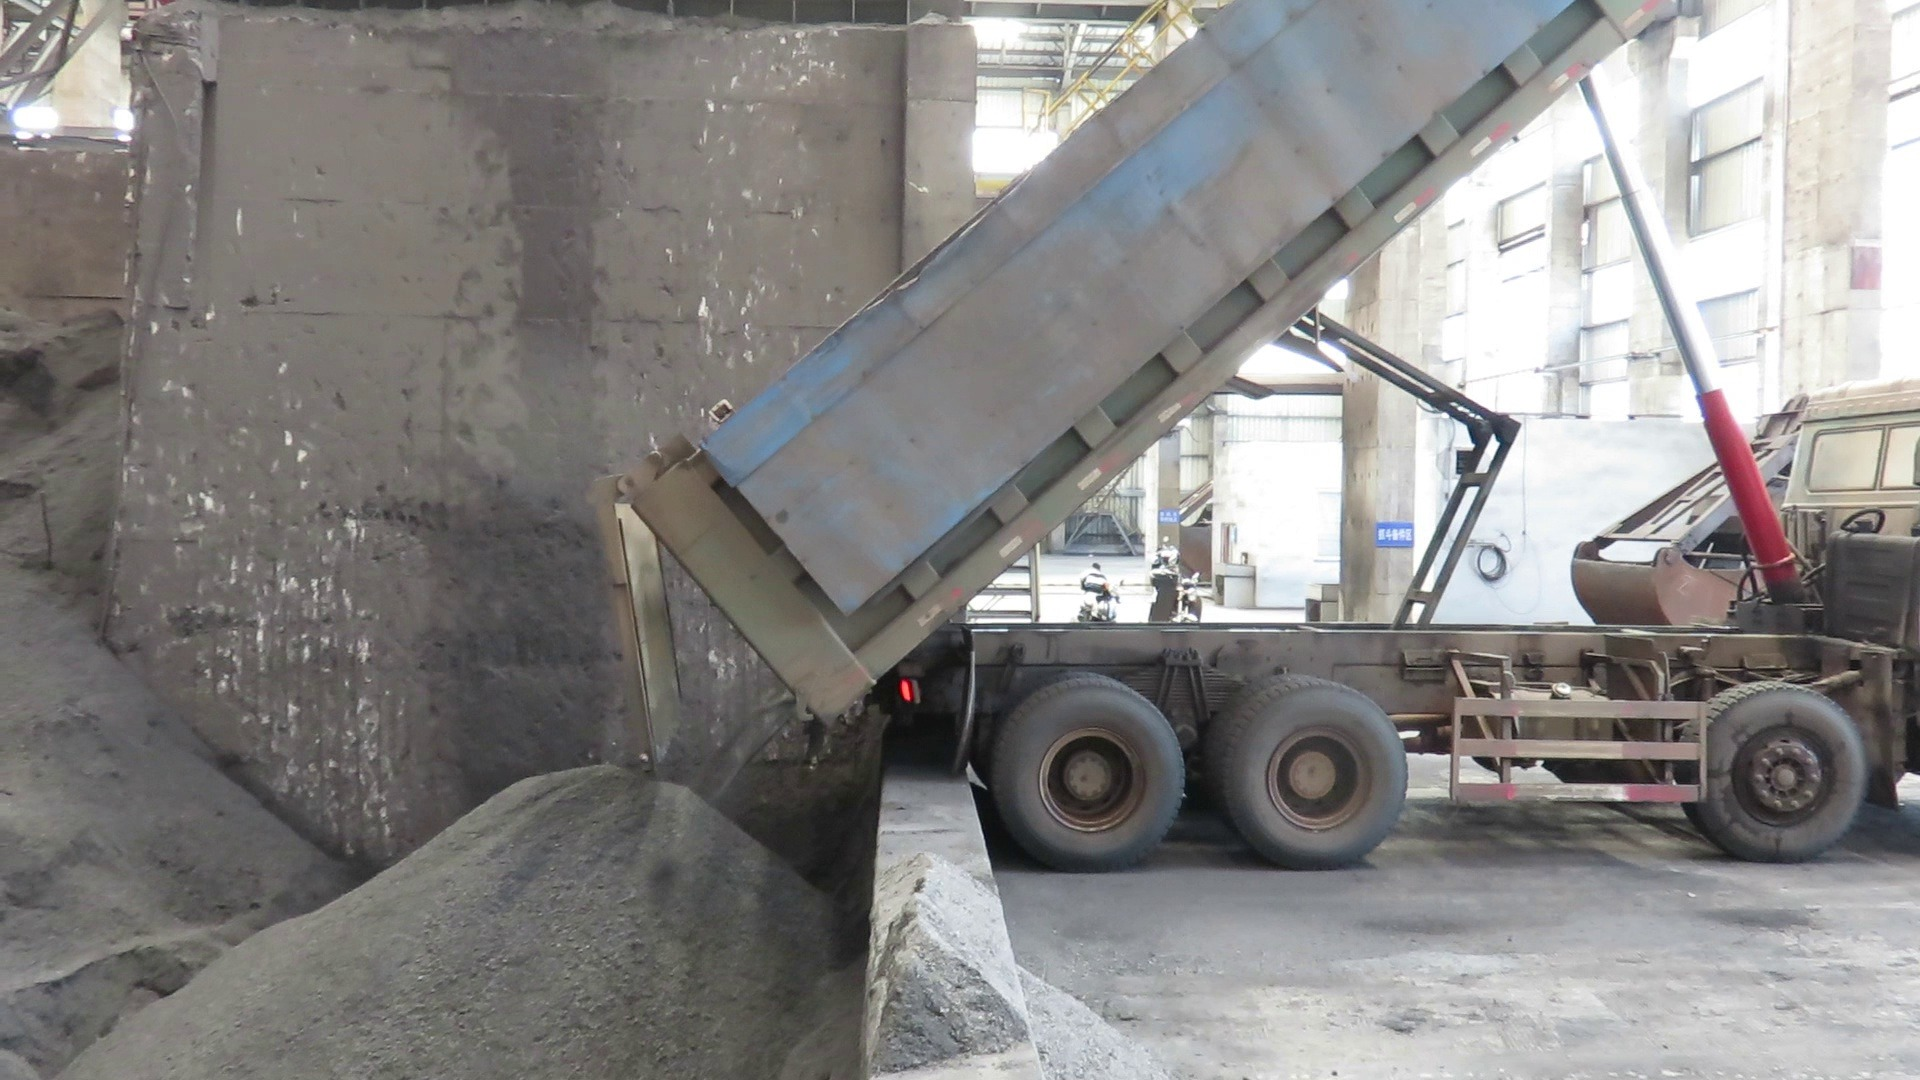truck: (580, 0, 1920, 866)
